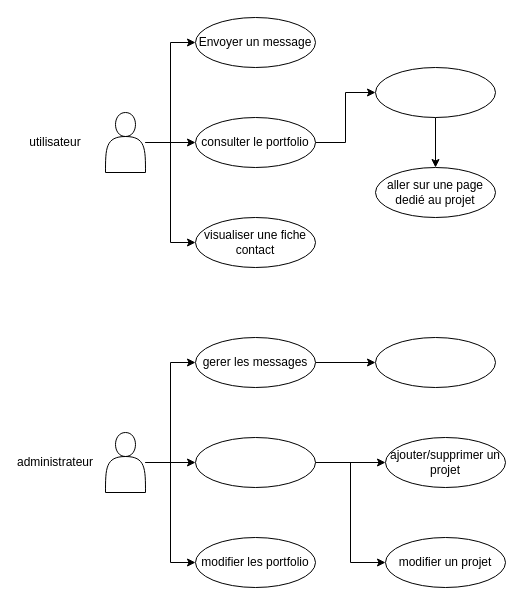
This 523x605 diagram has some shape labels left out. Each missing label, with the centre of its shape:
"filtrer les projets" goes at [435,92].
"gerer les projets" goes at [255,462].
"repondre au message" goes at [435,362].
